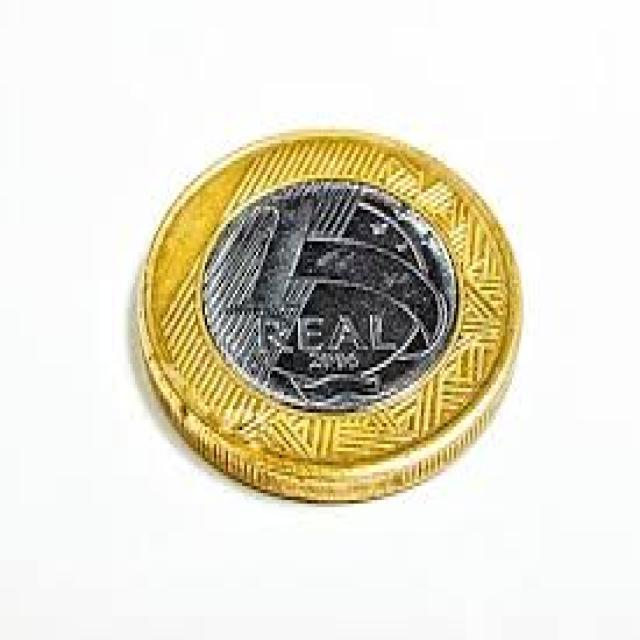1 real: (143, 128, 517, 516)
